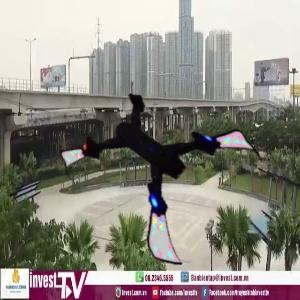drone: (82, 77, 254, 249)
